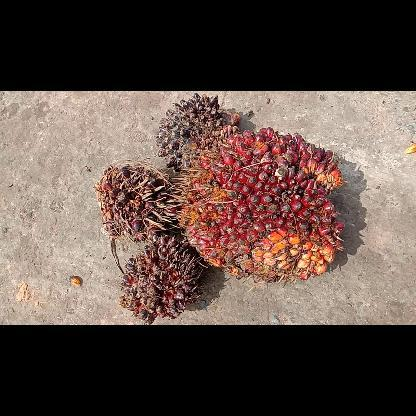TBS abnormal: (118, 234, 204, 324), (92, 160, 180, 244), (154, 90, 240, 170)
TBS masak: (171, 126, 347, 284)
